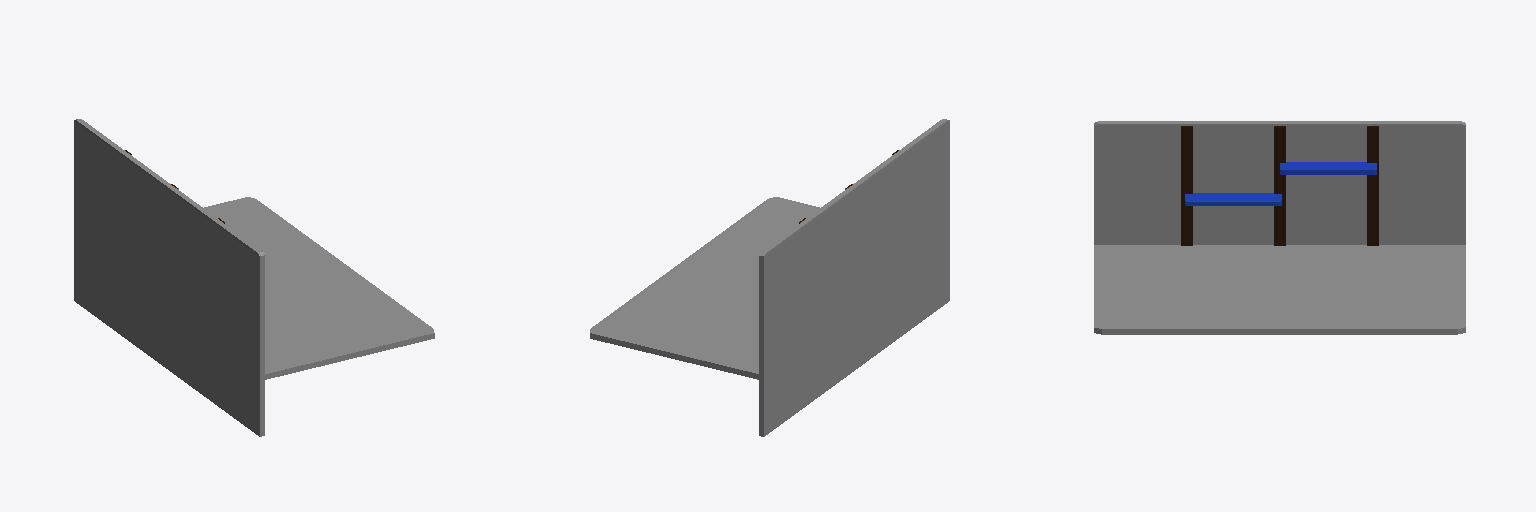
File: table.obj
The picture shows the model from 3 angles: view 1: azimuth 30°, elevation 25°; view 2: azimuth 150°, elevation 25°; view 3: azimuth 270°, elevation 25°; orthographic projection.
Visible parts, largest first — view 1: Cube.001, Cube; view 2: Cube.001, Cube; view 3: Cube.001, Cube, Cube.002, Cube.003.
Part boxes in pixels (left/top/right/bottom): Cube.001: left=74, top=119, right=264, bottom=436; Cube: left=204, top=197, right=434, bottom=380; Cube.001: left=759, top=119, right=949, bottom=436; Cube: left=590, top=197, right=819, bottom=379; Cube.001: left=1094, top=121, right=1465, bottom=245; Cube: left=1094, top=245, right=1465, bottom=334; Cube.002: left=1185, top=193, right=1281, bottom=205; Cube.003: left=1280, top=162, right=1376, bottom=174.
Bounding box in the file's own units: 3.32 × 3.25 × 6.02.